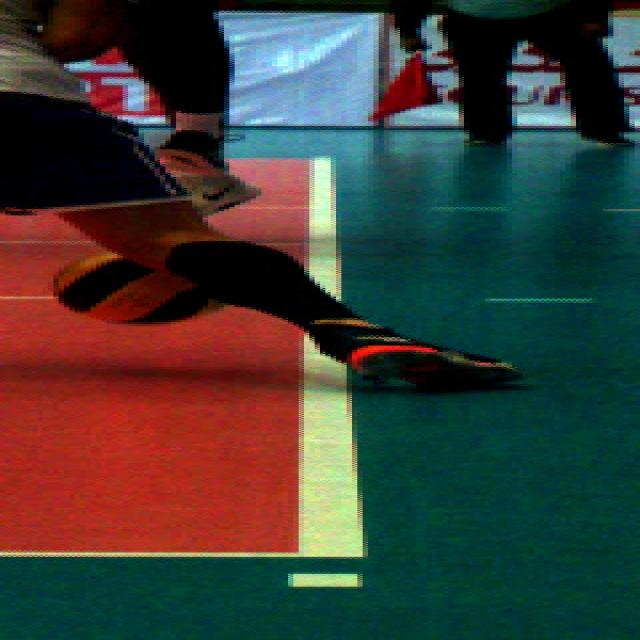Volleyball: (56, 248, 223, 324)
